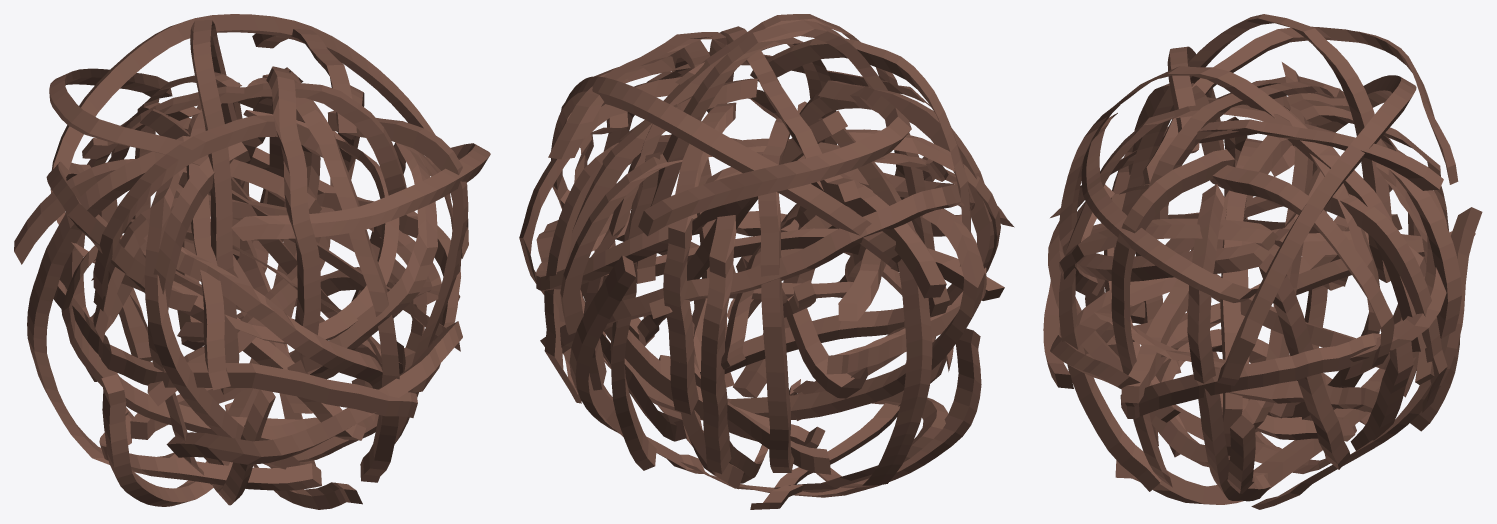
3 renders of one model, left to right at view 1: azimuth 30°, elevation 25°; view 2: azimuth 150°, elevation 25°; view 3: azimuth 270°, elevation 25°, orthographic. The views are drawn at different scales.
Visible parts, largest first — view 1: group_1259845521, group_1130982441, group_1498757284, group_408387063, group_175951774, group_1490306267, group_1851659044, group_148914499, group_1682593929, group_1103449666, group_1668550981, group_42070932 (+36 smaller); view 2: group_1668550981, group_1259845521, group_2002413364, group_1851659044, group_1123139196, group_408387063, group_433854710, group_1030603470, group_1431785206, group_443046435, group_1498757284, group_2145663616 (+39 smaller); view 3: group_1259845521, group_175951774, group_1851659044, group_1498757284, group_1422440365, group_2068664461, group_1733167154, group_384460925, group_148914499, group_1668550981, group_404277689, group_1713852664 (+36 smaller).
Boxes of the visible parts, bbox=[...] form: group_1259845521: bbox=[50, 14, 468, 263]; group_1130982441: bbox=[53, 280, 417, 417]; group_1498757284: bbox=[266, 66, 322, 372]; group_408387063: bbox=[27, 136, 191, 473]; group_175951774: bbox=[284, 67, 399, 482]; group_1490306267: bbox=[166, 321, 462, 464]; group_1851659044: bbox=[190, 20, 244, 394]; group_148914499: bbox=[231, 143, 490, 240]; group_1682593929: bbox=[144, 167, 306, 469]; group_1103449666: bbox=[93, 115, 323, 311]; group_1668550981: bbox=[49, 68, 334, 213]; group_42070932: bbox=[143, 234, 382, 389]; group_1668550981: bbox=[638, 86, 911, 236]; group_1259845521: bbox=[551, 76, 901, 271]; group_2002413364: bbox=[582, 208, 984, 420]; group_1851659044: bbox=[636, 20, 934, 283]; group_1123139196: bbox=[540, 183, 974, 353]; group_408387063: bbox=[816, 118, 932, 487]; group_433854710: bbox=[758, 118, 793, 472]; group_1030603470: bbox=[663, 102, 736, 414]; group_1431785206: bbox=[700, 215, 736, 474]; group_443046435: bbox=[560, 138, 1014, 334]; group_1498757284: bbox=[559, 14, 906, 322]; group_2145663616: bbox=[681, 328, 981, 497]; group_1259845521: bbox=[1217, 75, 1416, 385]; group_175951774: bbox=[1059, 104, 1292, 491]; group_1851659044: bbox=[1113, 14, 1391, 282]; group_1498757284: bbox=[1059, 66, 1426, 351]; group_1422440365: bbox=[1111, 149, 1234, 487]; group_2068664461: bbox=[1187, 184, 1270, 501]; group_1733167154: bbox=[1120, 333, 1380, 418]; group_384460925: bbox=[1210, 165, 1394, 379]; group_148914499: bbox=[1081, 113, 1257, 302]; group_1668550981: bbox=[1119, 26, 1458, 194]; group_404277689: bbox=[1323, 194, 1447, 412]; group_1713852664: bbox=[1259, 253, 1350, 469].
Bounding box in the file's own units: 132 × 140 × 123.
